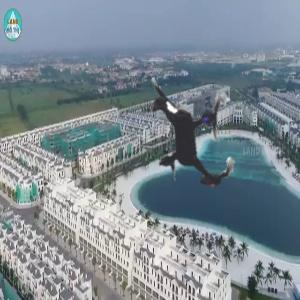drone: (101, 42, 288, 229)
